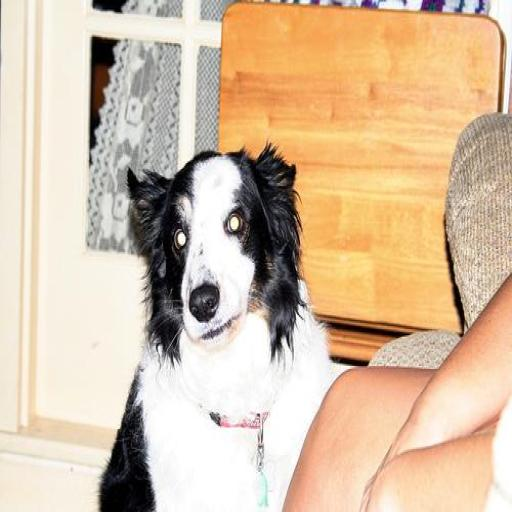dog_face: (126, 136, 300, 354)
